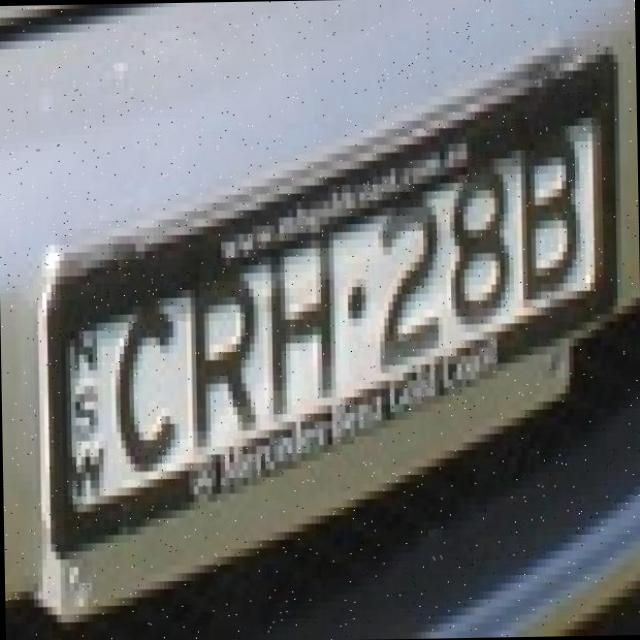LicensePlate: (15, 23, 636, 556)
